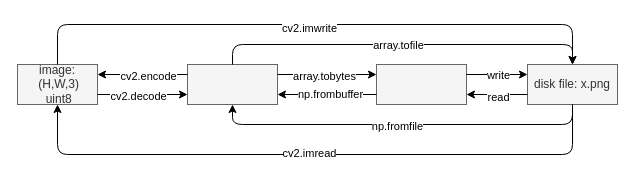
This 635x180 diagram has some shape labels left out. The centre of each missing label's shape, as x and y in pixels:
array: (K,1) uint8 or (K,) uint8: [232,84]
bytes: [421,84]
